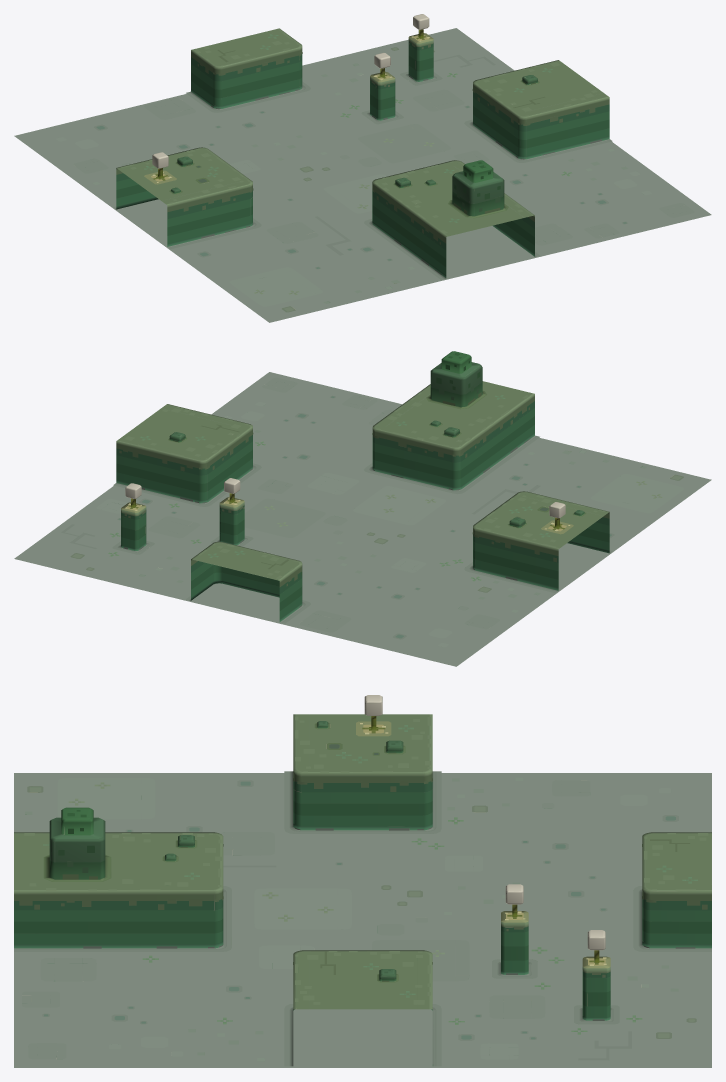
The model's file is C_cave2_01.fbx.
3 views of the same model, one above another, from view 1: azimuth 30°, elevation 25°; view 2: azimuth 150°, elevation 25°; view 3: azimuth 270°, elevation 25° (orthographic). The views are drawn at different scales.
Visible parts, largest first — view 1: C_cave2_01; view 2: C_cave2_01; view 3: C_cave2_01.
Boxes of the visible parts, x1=… form: C_cave2_01: x1=14, y1=14, x2=711, y2=322; C_cave2_01: x1=14, y1=351, x2=711, y2=666; C_cave2_01: x1=14, y1=695, x2=711, y2=1067.
Size of the model in its own units: 50 by 9.03 by 50.
1 material, 1 textured.
